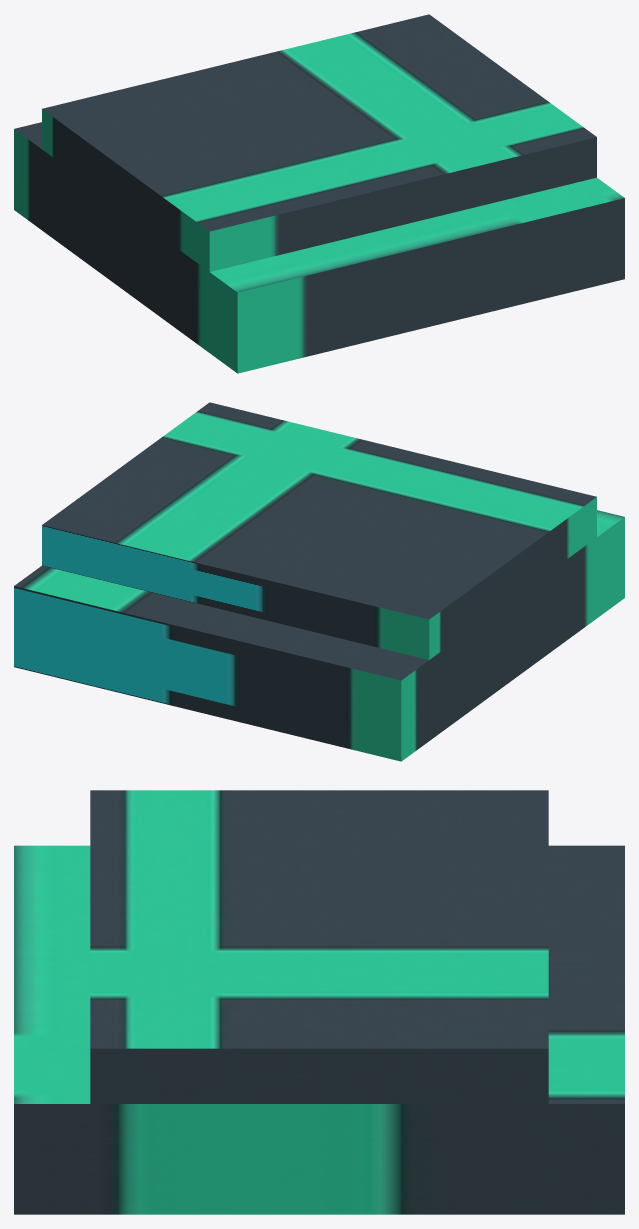
Rendered from ButtonCube.fbx.
3 views of the same model, one above another, from view 1: azimuth 30°, elevation 25°; view 2: azimuth 150°, elevation 25°; view 3: azimuth 270°, elevation 25° (orthographic). The views are drawn at different scales.
Parts seen in each view (by area): view 1: Cube.002, Cube.001; view 2: Cube.002, Cube.001; view 3: Cube.002, Cube.001.
Part boxes in pixels (x1,y1,x2,y2): Cube.002: (42, 14, 596, 271); Cube.001: (14, 122, 624, 373); Cube.002: (42, 402, 596, 659); Cube.001: (14, 510, 624, 761); Cube.002: (90, 790, 548, 1103); Cube.001: (14, 845, 624, 1214).
Size of the model in its own units: 200 by 60 by 200.
